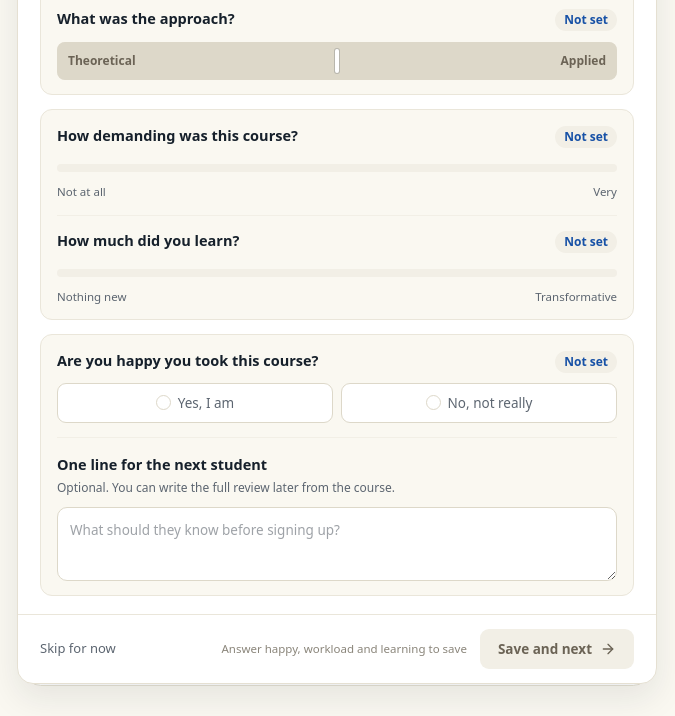
Test case: a save that does not land › clears the error when the reviewer skips past the card instead
The image size is (675, 716).
(page scrolled)
Click the button "Yes, I am": (195, 403) [57, 383, 333, 423]
(page scrolled)
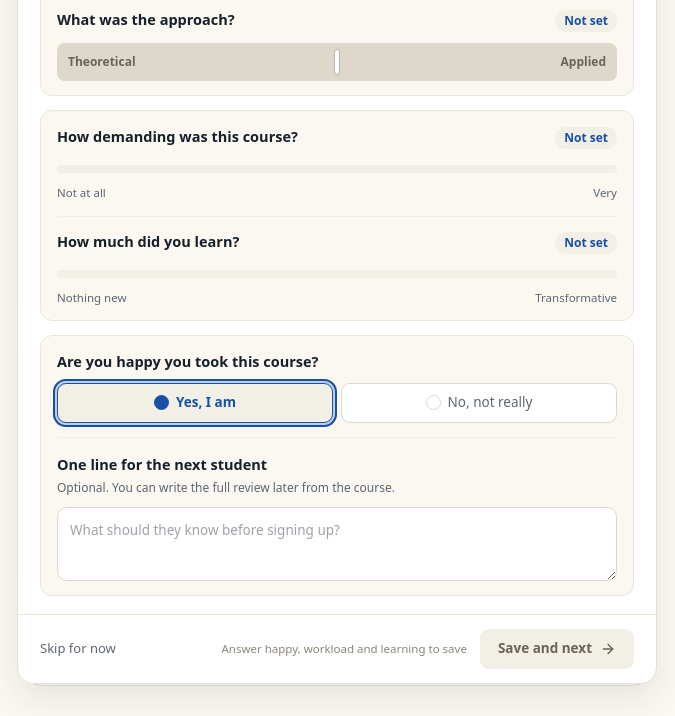
Set the slider labelled "How demanding was this course?" to "8": (337, 164) [57, 126, 617, 202]
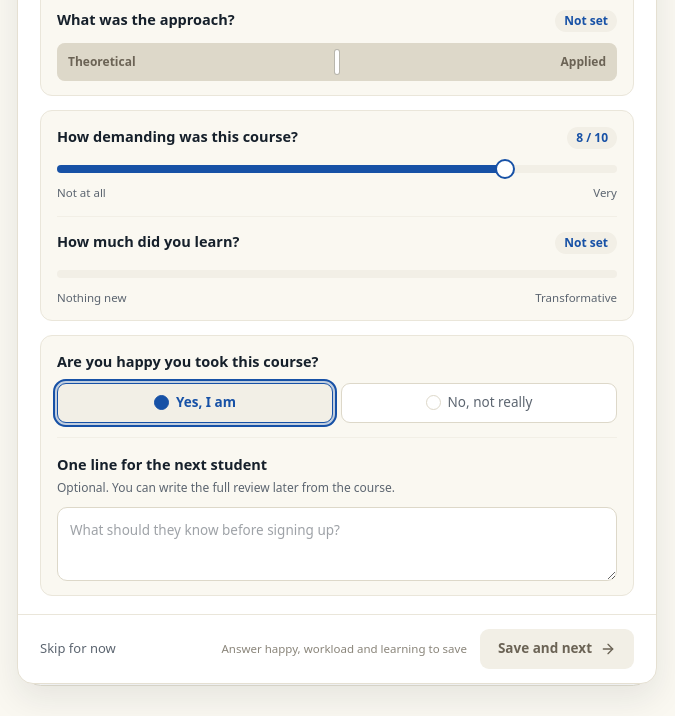
Set the slider labelled "How much did you learn?" to "5": (337, 268) [57, 230, 617, 306]
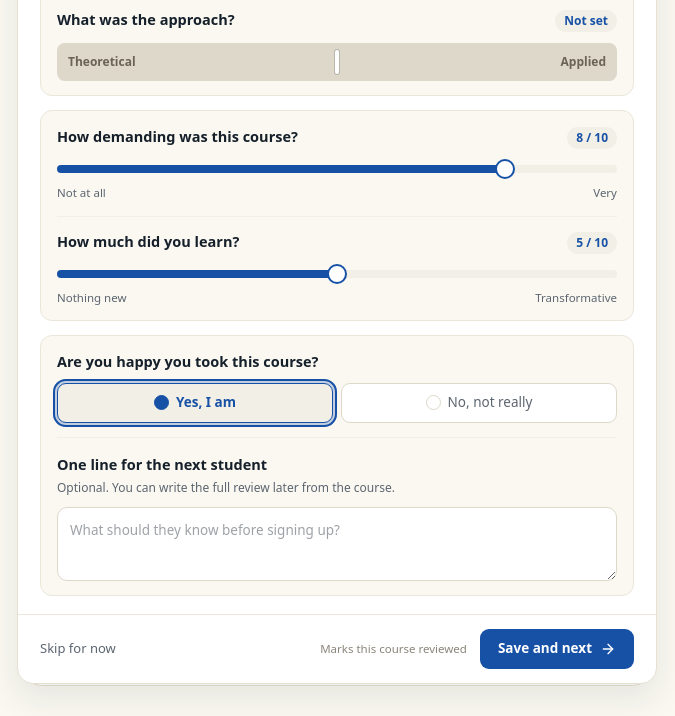
Click the button "Save and next": (557, 648) [480, 628, 634, 668]
(page scrolled)
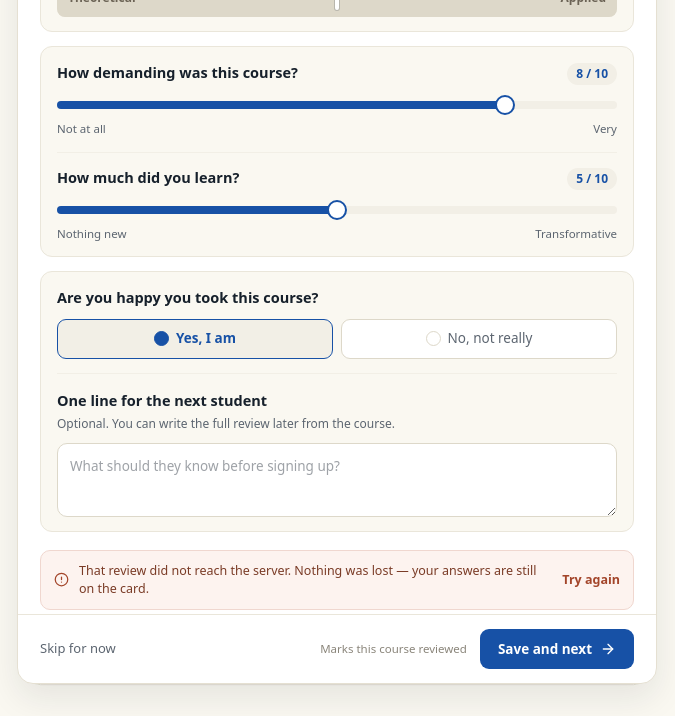
Expected: the text "did not reach the server" is shown, [79, 562, 536, 597]
Click the button "Skip for now": (78, 649) [40, 639, 116, 658]
(page scrolled)
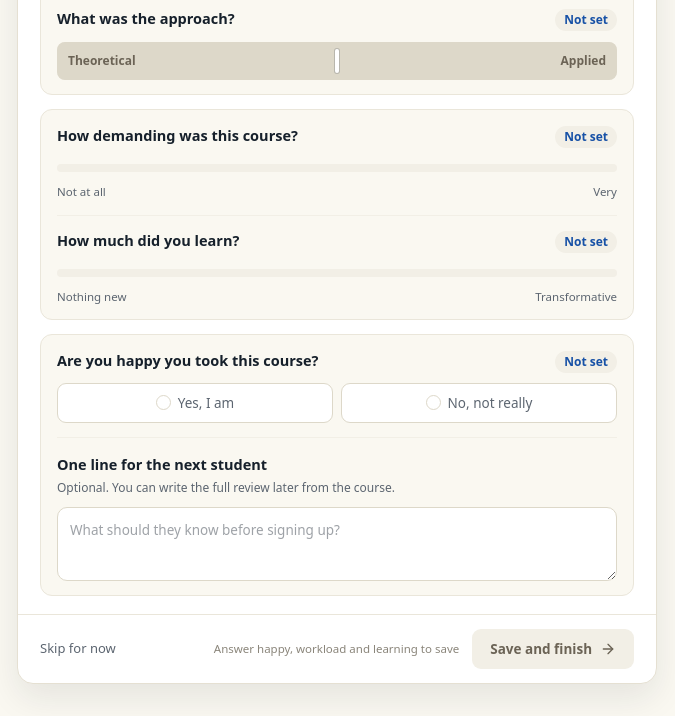
Expected: the text "did not reach the server" is gone
